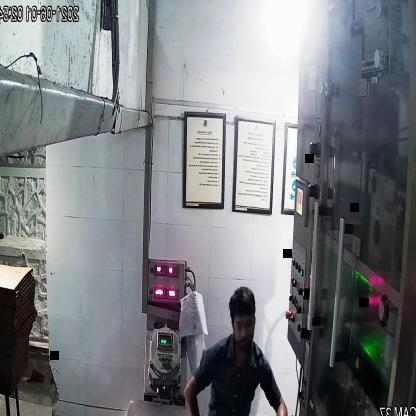no_goggles: (229, 309, 259, 337)
